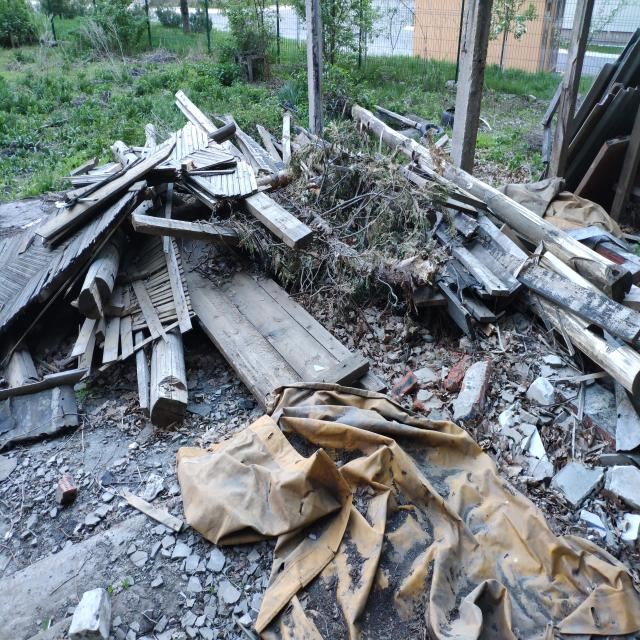entulho: (353, 401, 571, 640), (177, 410, 374, 562), (184, 271, 370, 411), (0, 229, 127, 387), (128, 178, 280, 282), (270, 385, 463, 460), (546, 0, 603, 177), (347, 100, 450, 180), (558, 288, 640, 348), (610, 78, 640, 228), (486, 190, 560, 248), (445, 240, 506, 299), (440, 162, 510, 212), (233, 118, 294, 175), (115, 485, 183, 532), (119, 138, 178, 184), (440, 286, 488, 340), (538, 252, 602, 292), (176, 90, 222, 139), (5, 348, 39, 388), (542, 80, 564, 128), (545, 370, 612, 382), (66, 156, 100, 178), (558, 320, 575, 355), (576, 379, 586, 424)
restos de madeira: (336, 201, 393, 243), (312, 185, 374, 218), (313, 138, 334, 210)
